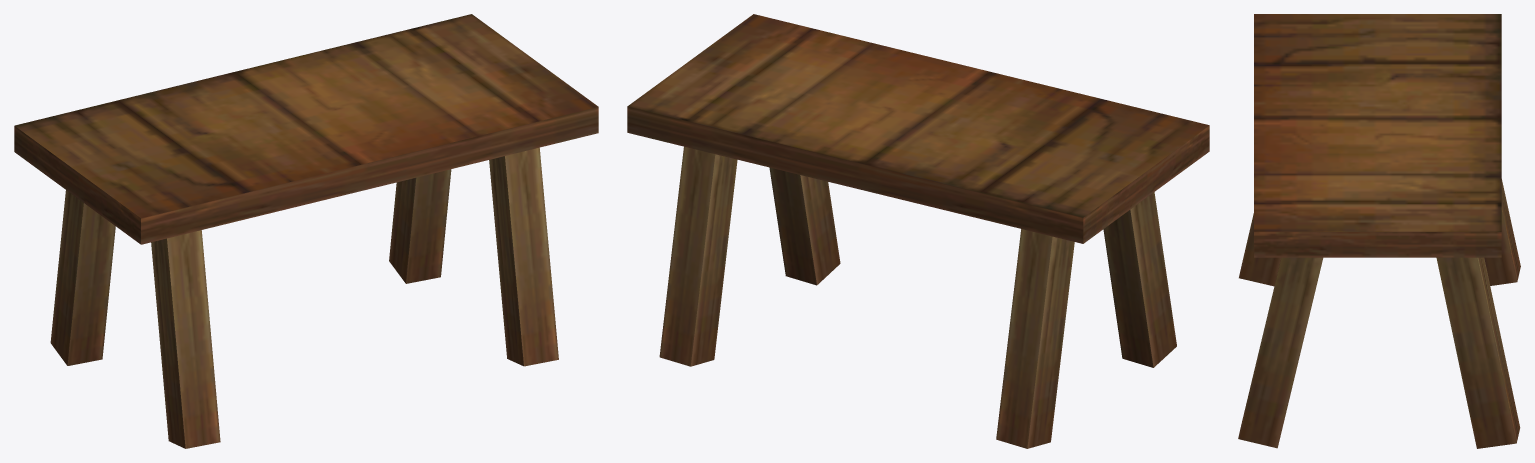
The model's file is shamo_wujian_yizi.fbx.
3 renders of one model, left to right at view 1: azimuth 30°, elevation 25°; view 2: azimuth 150°, elevation 25°; view 3: azimuth 270°, elevation 25°, orthographic. The views are drawn at different scales.
Parts seen in each view (by area): view 1: polySurface291, polySurface297, polySurface298, polySurface295, polySurface296; view 2: polySurface291, polySurface296, polySurface295, polySurface297, polySurface298; view 3: polySurface291, polySurface296, polySurface298, polySurface295, polySurface297.
Part boxes in pixels (left/top/right/bottom): polySurface291: left=14, top=14, right=598, bottom=244; polySurface297: left=151, top=230, right=220, bottom=448; polySurface298: left=489, top=147, right=558, bottom=366; polySurface295: left=50, top=190, right=115, bottom=365; polySurface296: left=389, top=169, right=451, bottom=283; polySurface291: left=627, top=14, right=1209, bottom=243; polySurface296: left=659, top=146, right=737, bottom=366; polySurface295: left=996, top=229, right=1074, bottom=448; polySurface297: left=1103, top=192, right=1176, bottom=367; polySurface298: left=769, top=167, right=840, bottom=285; polySurface291: left=1254, top=14, right=1501, bottom=257; polySurface296: left=1436, top=257, right=1520, bottom=448; polySurface298: left=1238, top=257, right=1323, bottom=448; polySurface295: left=1484, top=179, right=1520, bottom=285; polySurface297: left=1239, top=213, right=1281, bottom=286.
Size of the model in its own units: 1.47 by 0.7477 by 0.8063.
